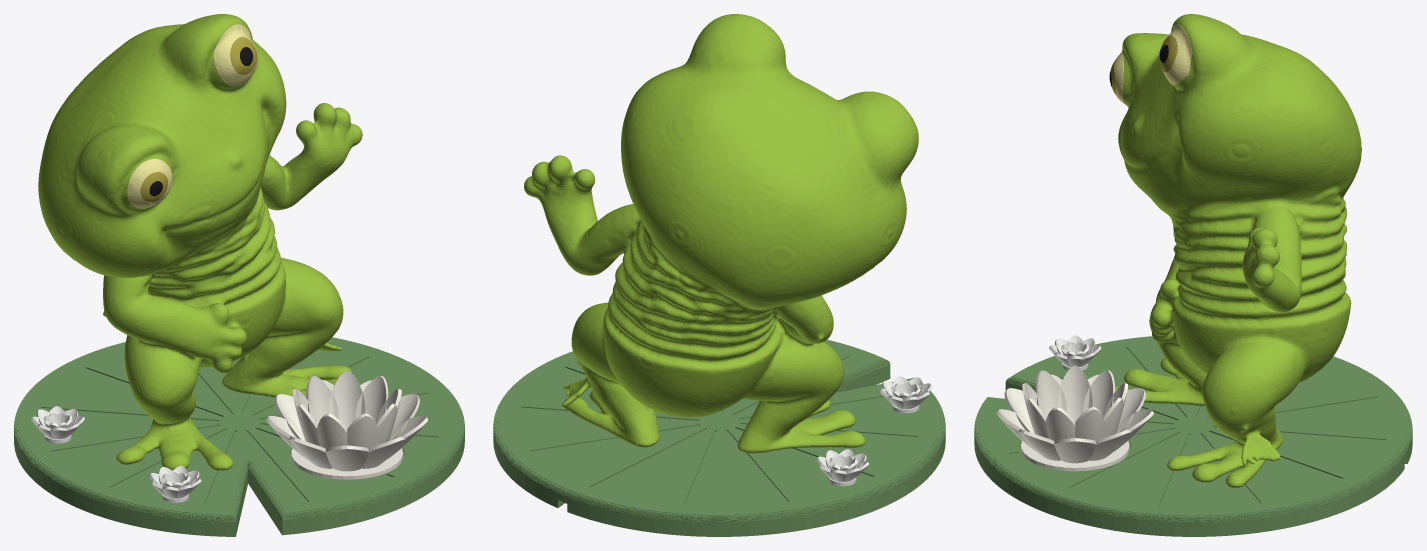
Rendered from H101-web.glb.
The picture shows the model from 3 angles, left to right: view 1: azimuth 30°, elevation 25°; view 2: azimuth 150°, elevation 25°; view 3: azimuth 270°, elevation 25°; orthographic projection. The views are drawn at different scales.
Parts seen in each view (by area): view 1: H101-frog, H101-pad, H101-lily-lamp, H101-eye-right-eyeball, H101-lily-small-1, H101-lily-small-2, H101-eye-left-eyeball, H101-eye-right-iris; view 2: H101-frog, H101-pad, H101-lily-small-1, H101-lily-small-2; view 3: H101-frog, H101-pad, H101-lily-lamp, H101-lily-small-2, H101-eye-right-eyeball.
Part boxes in pixels (left/top/right/bottom): H101-frog: left=38, top=14, right=362, bottom=470; H101-pad: left=14, top=337, right=464, bottom=536; H101-lily-lamp: left=266, top=370, right=428, bottom=479; H101-eye-right-eyeball: left=213, top=24, right=258, bottom=86; H101-lily-small-1: left=31, top=406, right=84, bottom=443; H101-lily-small-2: left=149, top=466, right=201, bottom=502; H101-eye-left-eyeball: left=127, top=158, right=172, bottom=208; H101-eye-right-iris: left=230, top=37, right=257, bottom=75; H101-frog: left=524, top=14, right=918, bottom=453; H101-pad: left=493, top=339, right=945, bottom=536; H101-lily-small-1: left=816, top=449, right=869, bottom=486; H101-lily-small-2: left=879, top=376, right=932, bottom=413; H101-frog: left=1115, top=14, right=1361, bottom=487; H101-pad: left=974, top=336, right=1412, bottom=536; H101-lily-lamp: left=996, top=365, right=1153, bottom=471; H101-lily-small-2: left=1049, top=335, right=1101, bottom=370; H101-eye-right-eyeball: left=1163, top=24, right=1192, bottom=84.
Size of the model in its own units: 0.25 by 0.262 by 0.25.
